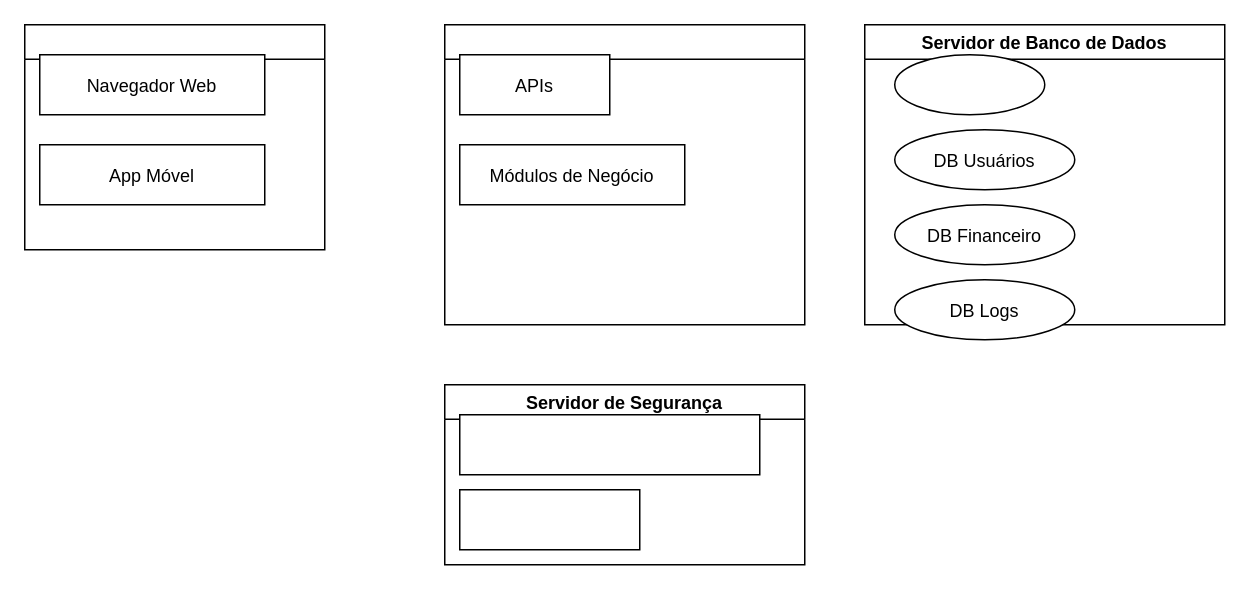
The diagram is 1250 pixels wide and 590 high, and some of its shapes have lost their labels. The box of each missing label's shape, as (x1, y1, x2, y2) in pixels:
Autenticação Multifator: (458, 413, 760, 475)
Cliente: (23, 23, 325, 250)
Criptografia: (458, 488, 640, 550)
DB Clínico: (893, 53, 1045, 115)
Servidor de Aplicação: (443, 23, 805, 325)
